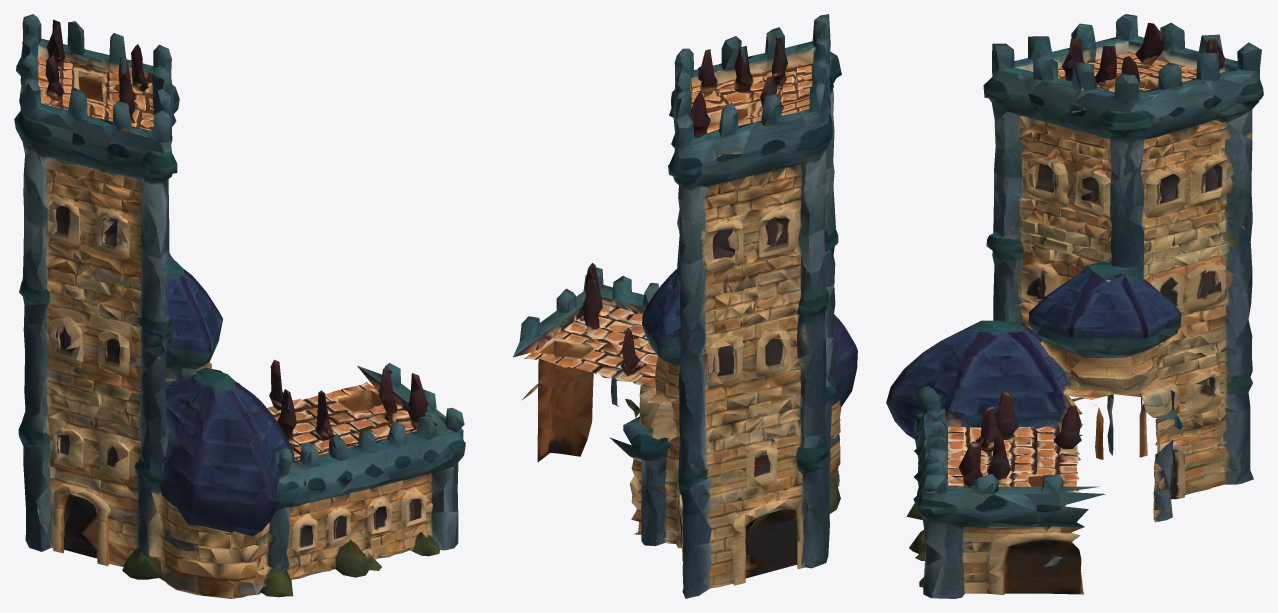
The model's file is torre.glb.
3 renders of one model, left to right at view 1: azimuth 30°, elevation 25°; view 2: azimuth 150°, elevation 25°; view 3: azimuth 270°, elevation 25°, orthographic. The views are drawn at different scales.
Size of the model in its own units: 1.94 by 2.59 by 2.
1 material, 1 textured.
